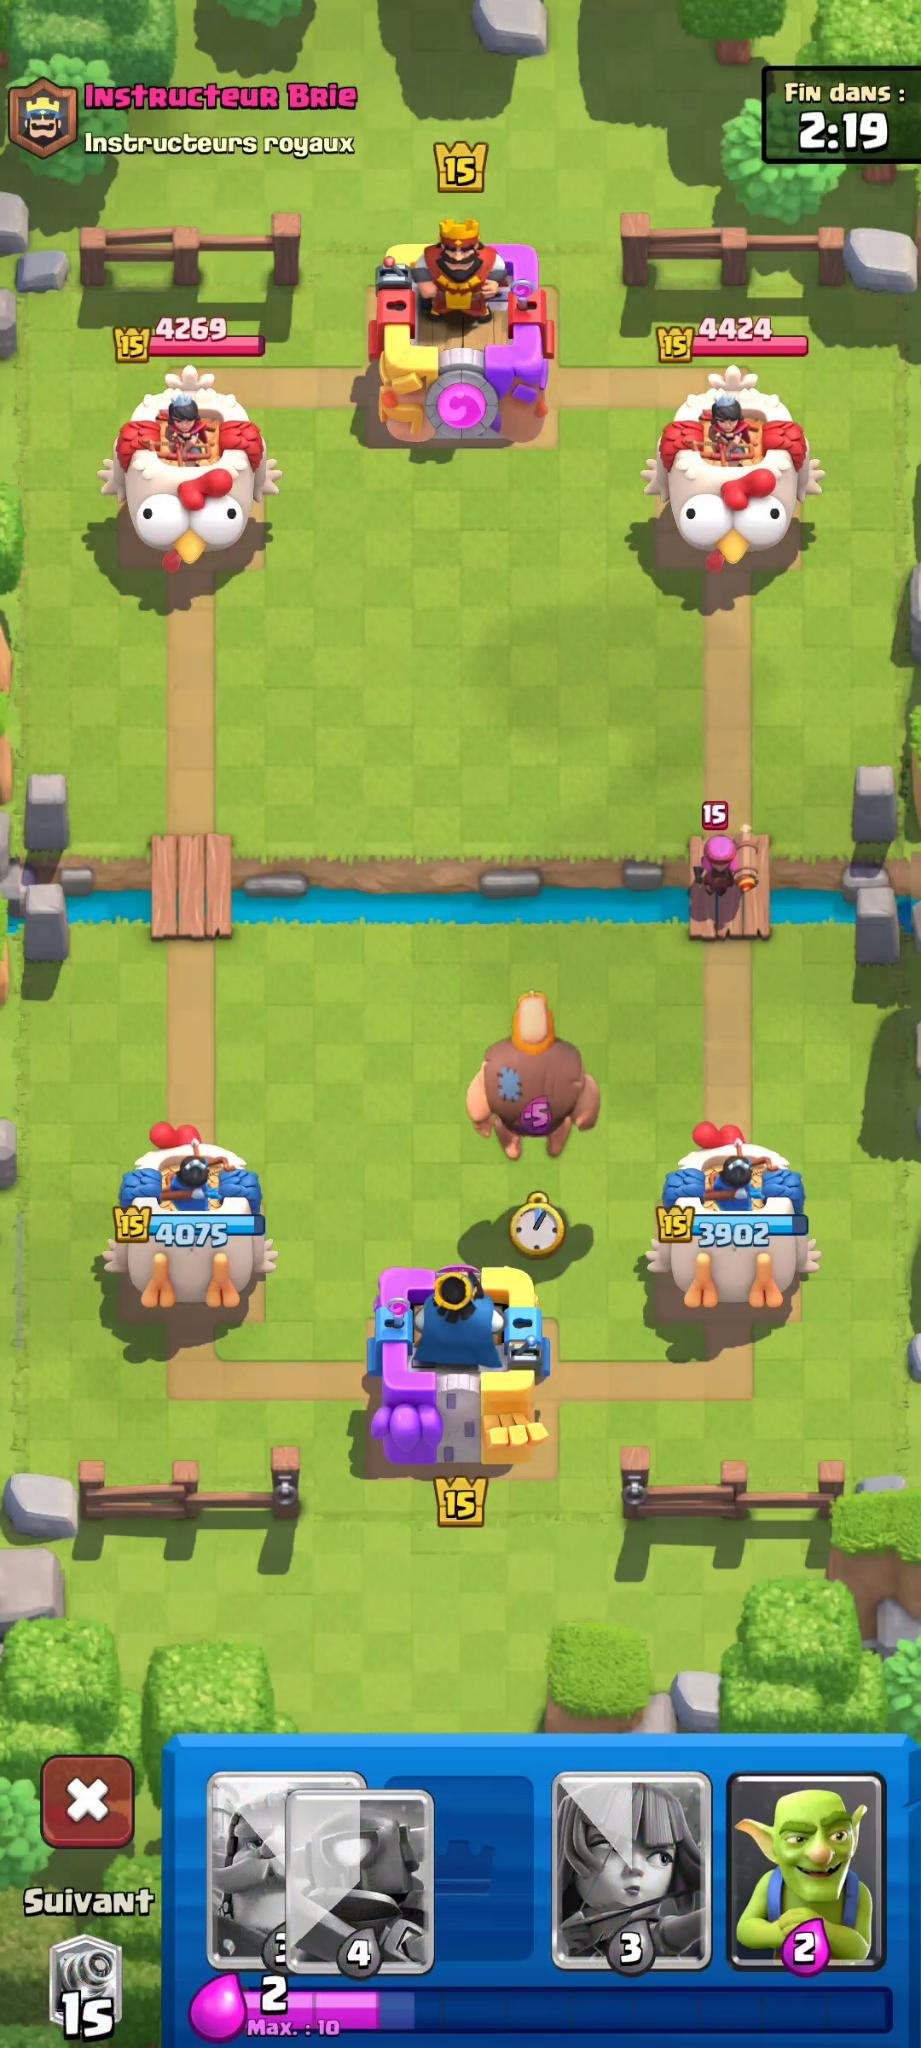geant: (444, 972, 636, 1164)
